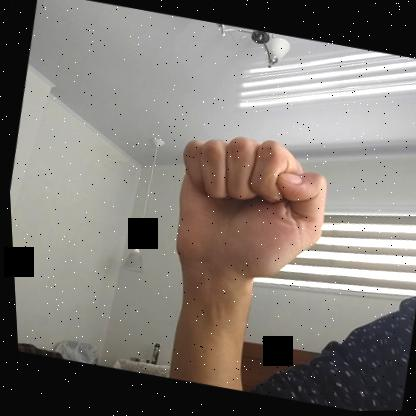A: (154, 122, 340, 292)
